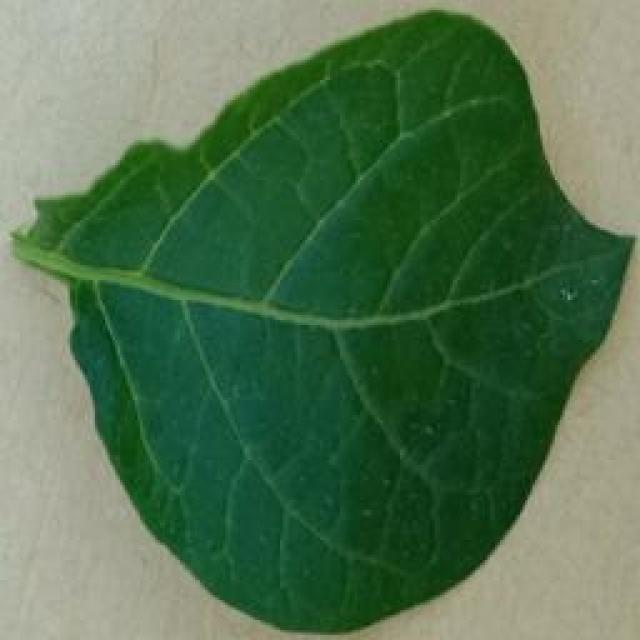Potato_Healthy: (8, 9, 622, 630)
